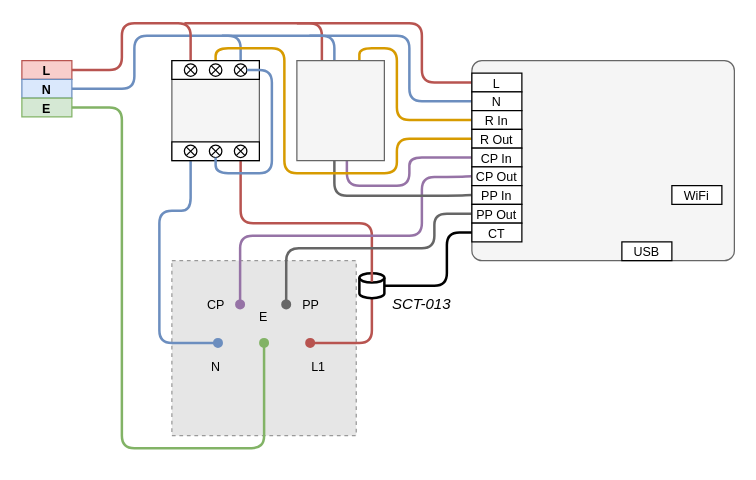
This 756x480 diagram has some shape labels left out. Grey dashed boxes stand in for pictures. The shapes that lost their labels are listed below. From the top down, each one's box as (x1, y1, x2, y2) in pixels, then its label:
(171, 59, 259, 161): Relay
(296, 59, 384, 161): Controller
(471, 59, 734, 261): EV Switch
